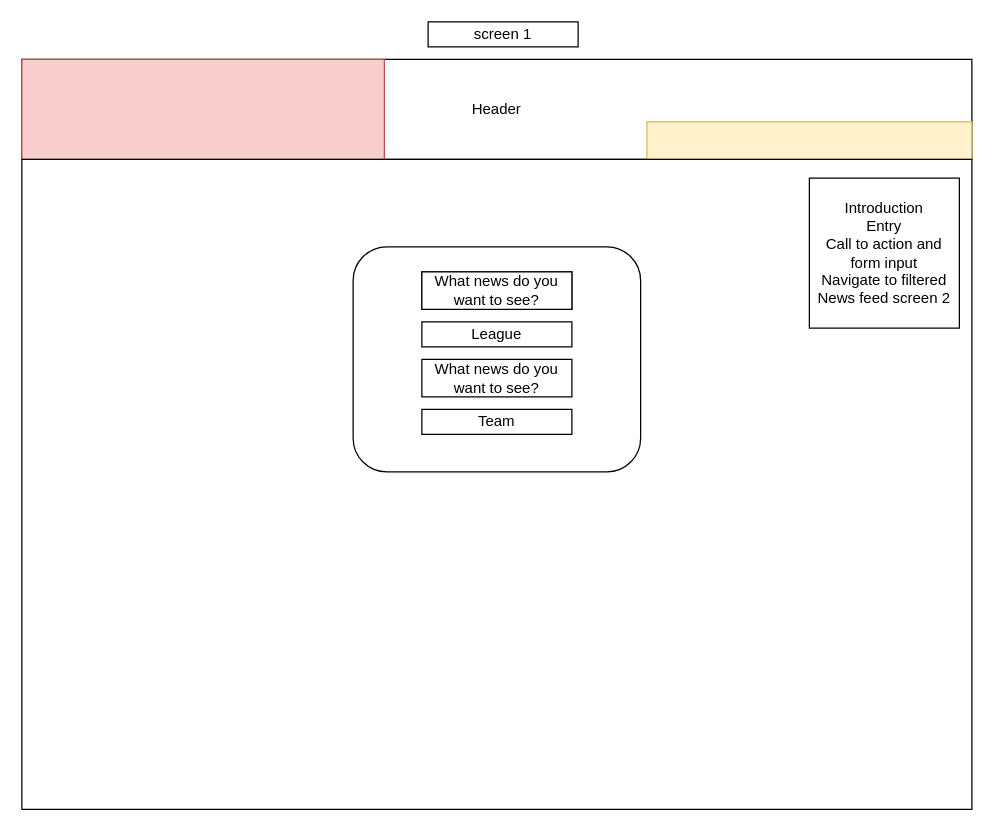
The diagram is 994 pixels wide and 831 high, and some of its shapes have lost their labels. Here are the shapes that lost their labels. From the top down, the centre of each, then its label:
At point (202, 108): "Action picture".
At point (809, 140): "UI navigables".
